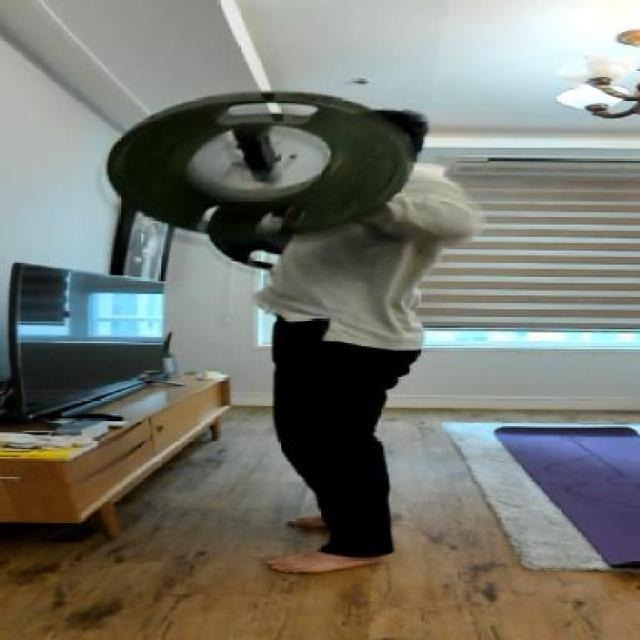barbell: (94, 83, 436, 240)
